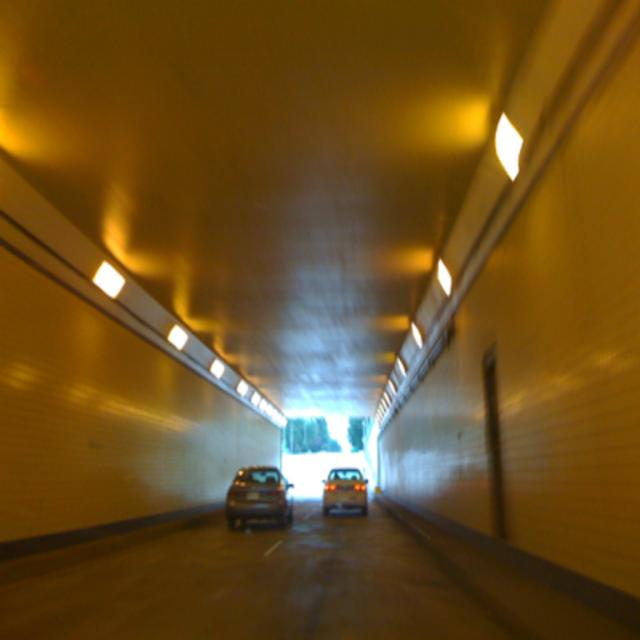car: (224, 462, 294, 532), (321, 464, 369, 515)
